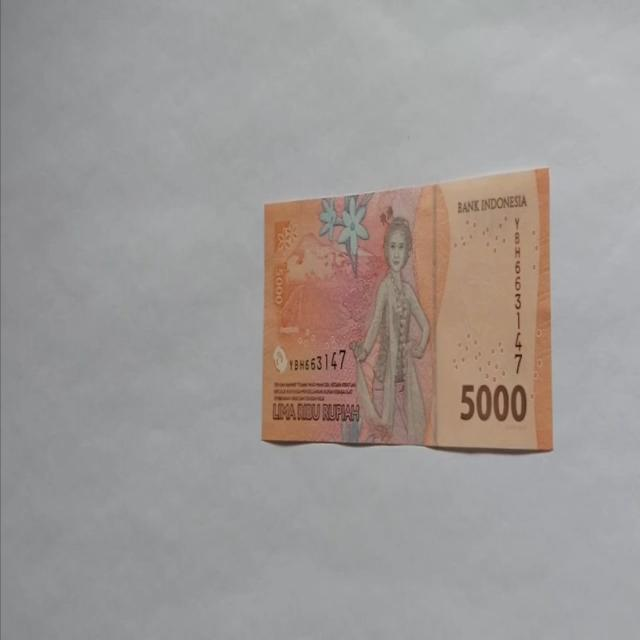lima ribu rupiah: (261, 165, 553, 452), (348, 215, 432, 445)
